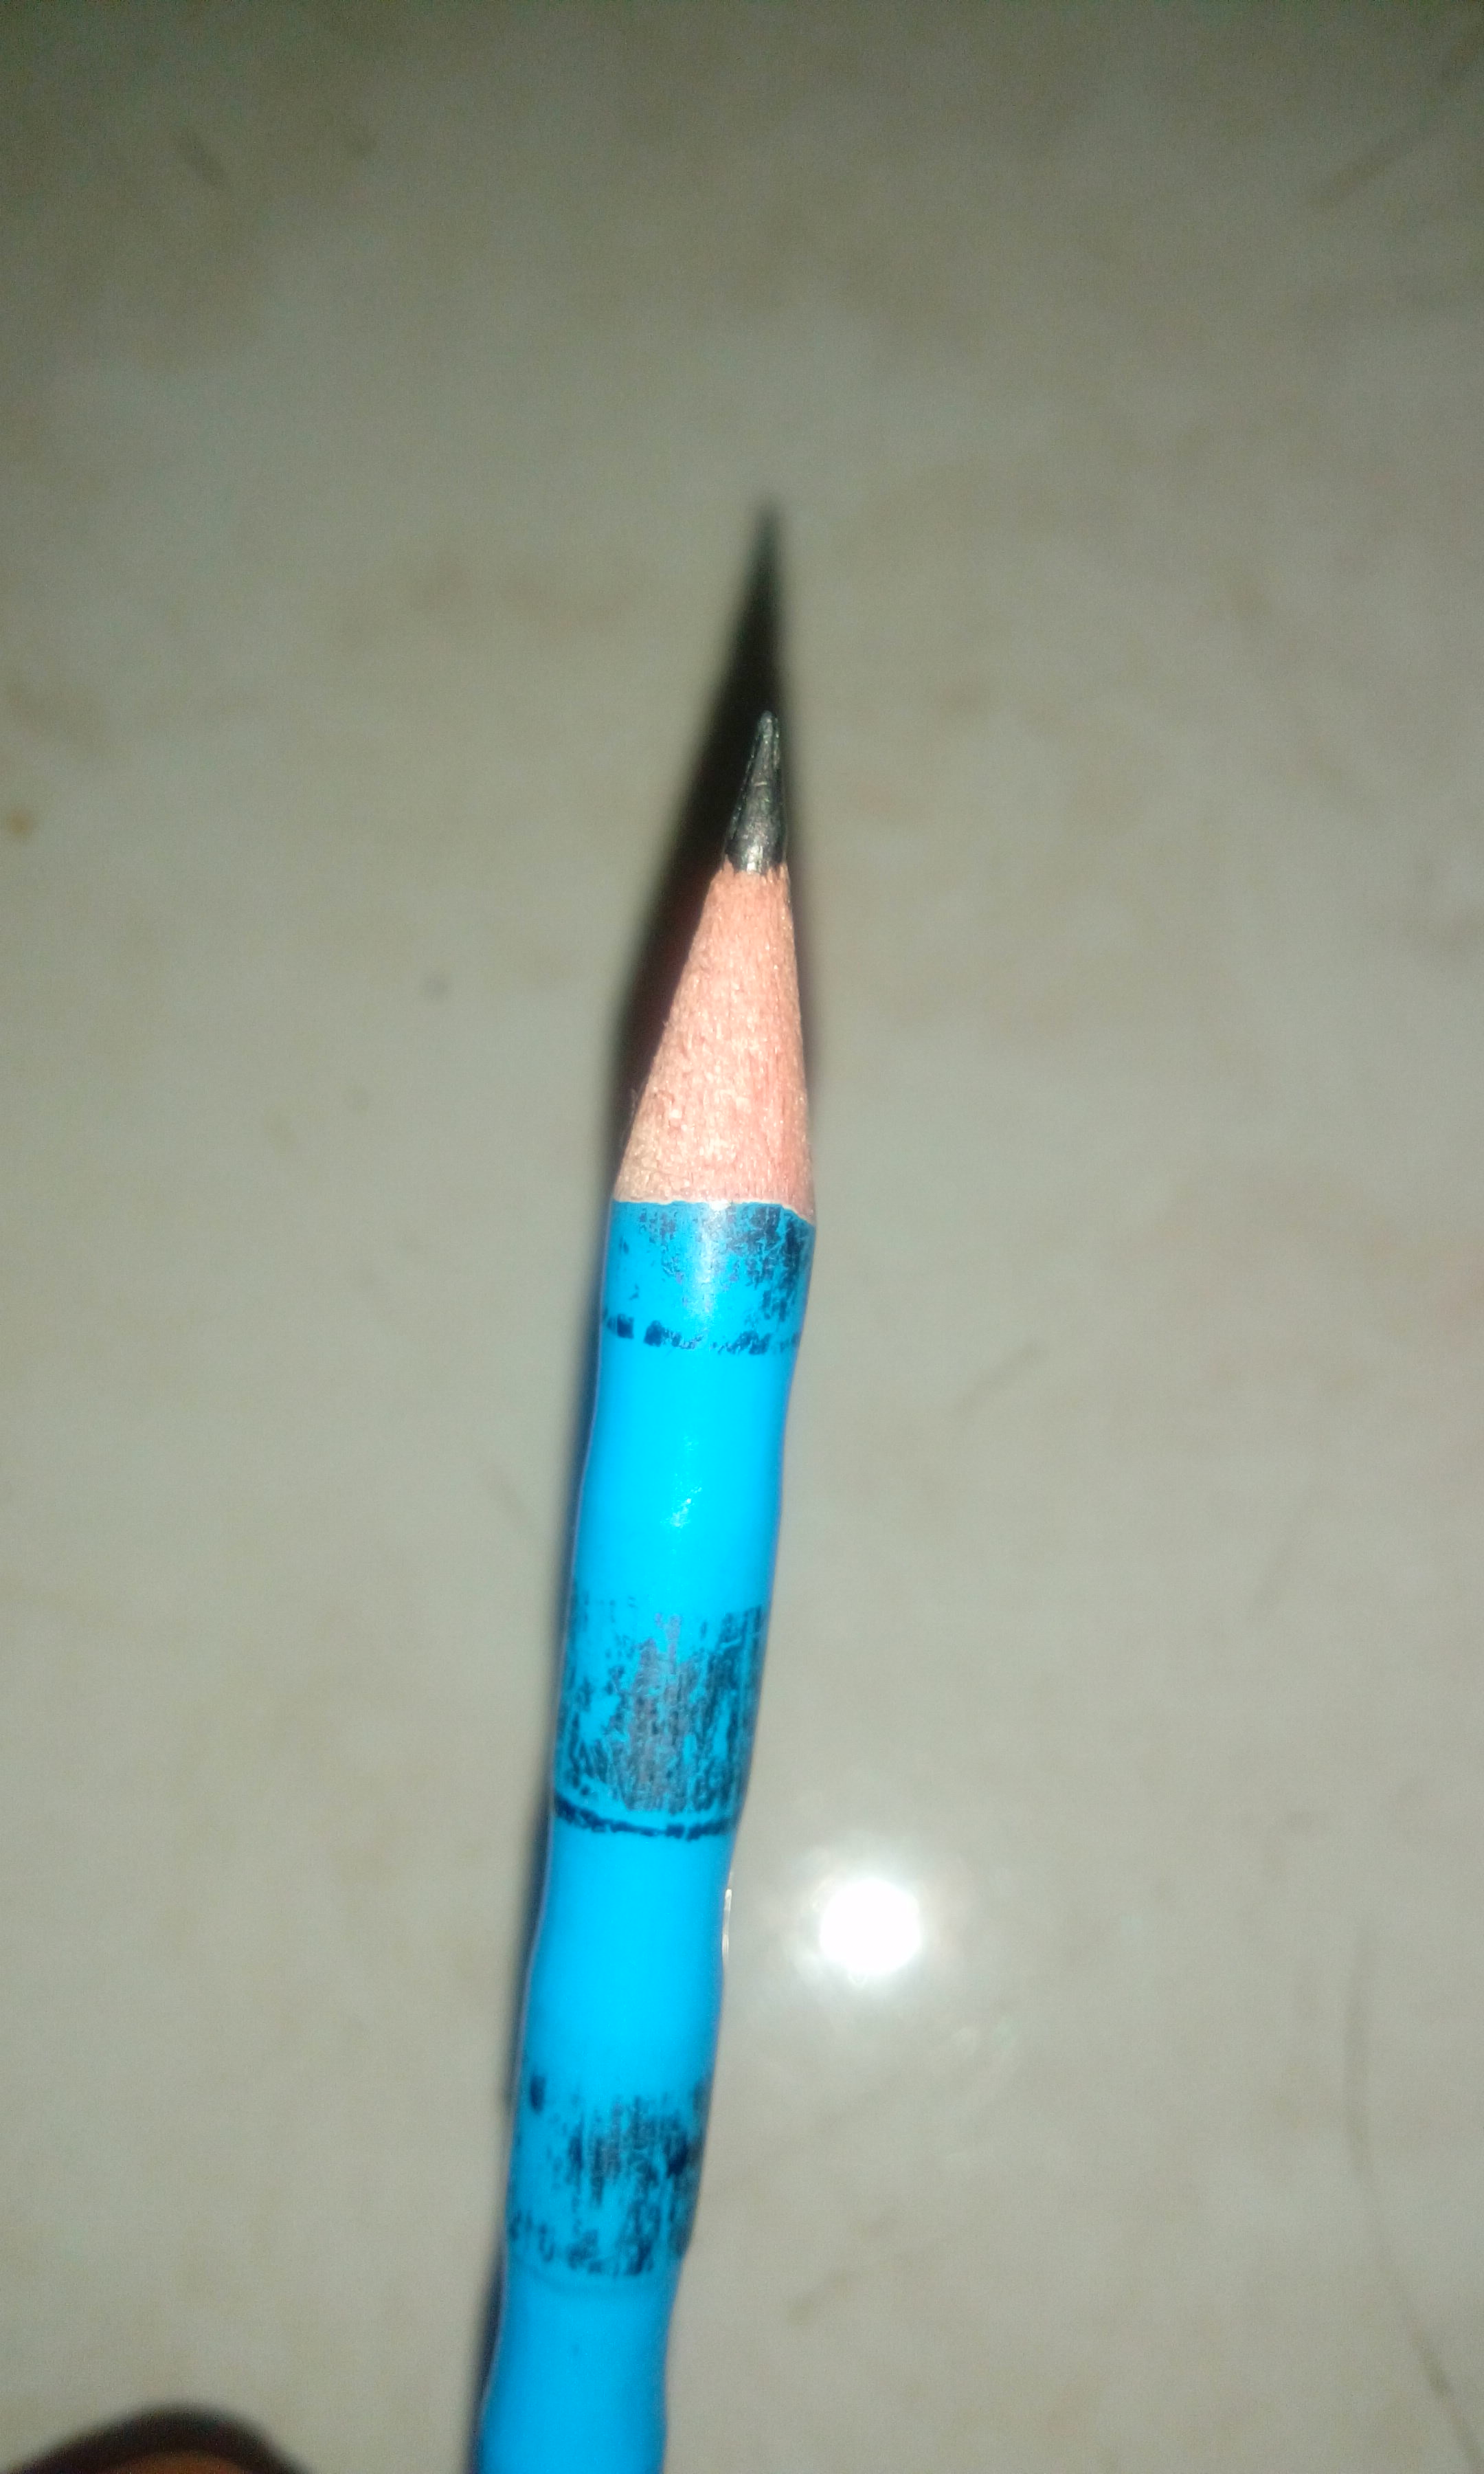pen_tip: (516, 484, 931, 1426)
